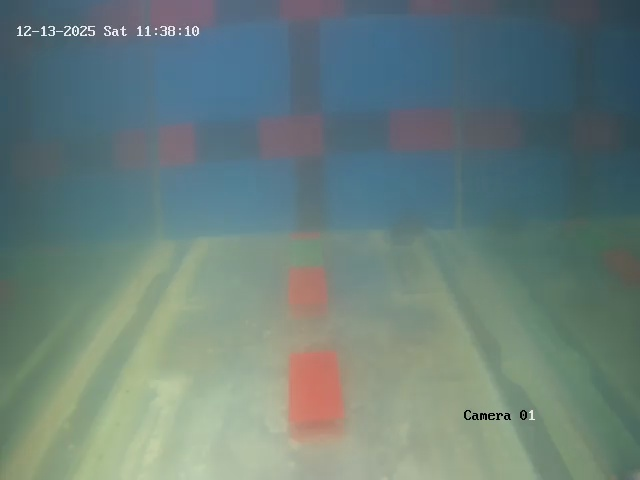fish: (381, 214, 427, 247)
